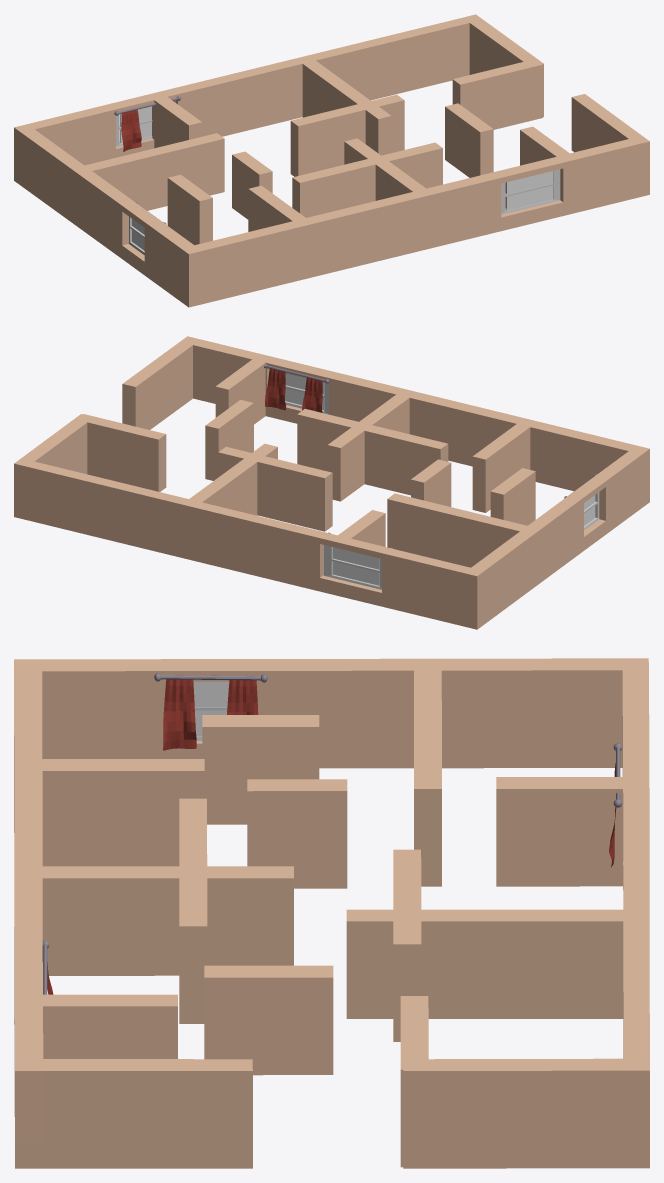
File: Level 14.fbx
The picture shows the model from 3 angles, top to bottom: view 1: azimuth 30°, elevation 25°; view 2: azimuth 150°, elevation 25°; view 3: azimuth 270°, elevation 25°; orthographic projection. The views are drawn at different scales.
Parts seen in each view (by area): view 1: polySurface111, pasted__wind1, polySurface50, pasted__pasted__clowt1; view 2: polySurface111, pasted__wind1, polySurface50, pasted__pasted__clowt1; view 3: polySurface111, pasted__pasted__clowt1.
Boxes of the visible parts, x1=… form: polySurface111: x1=14, y1=14, x2=649, y2=307; pasted__wind1: x1=501, y1=169, x2=560, y2=214; polySurface50: x1=114, y1=96, x2=181, y2=151; pasted__pasted__clowt1: x1=128, y1=201, x2=166, y2=254; polySurface111: x1=14, y1=336, x2=649, y2=629; pasted__wind1: x1=264, y1=363, x2=329, y2=414; polySurface50: x1=324, y1=532, x2=392, y2=589; pasted__pasted__clowt1: x1=564, y1=474, x2=599, y2=530; polySurface111: x1=14, y1=658, x2=649, y2=1168; pasted__pasted__clowt1: x1=154, y1=673, x2=267, y2=750.
Bounding box in the file's own units: 154 × 16.93 × 99.98.
